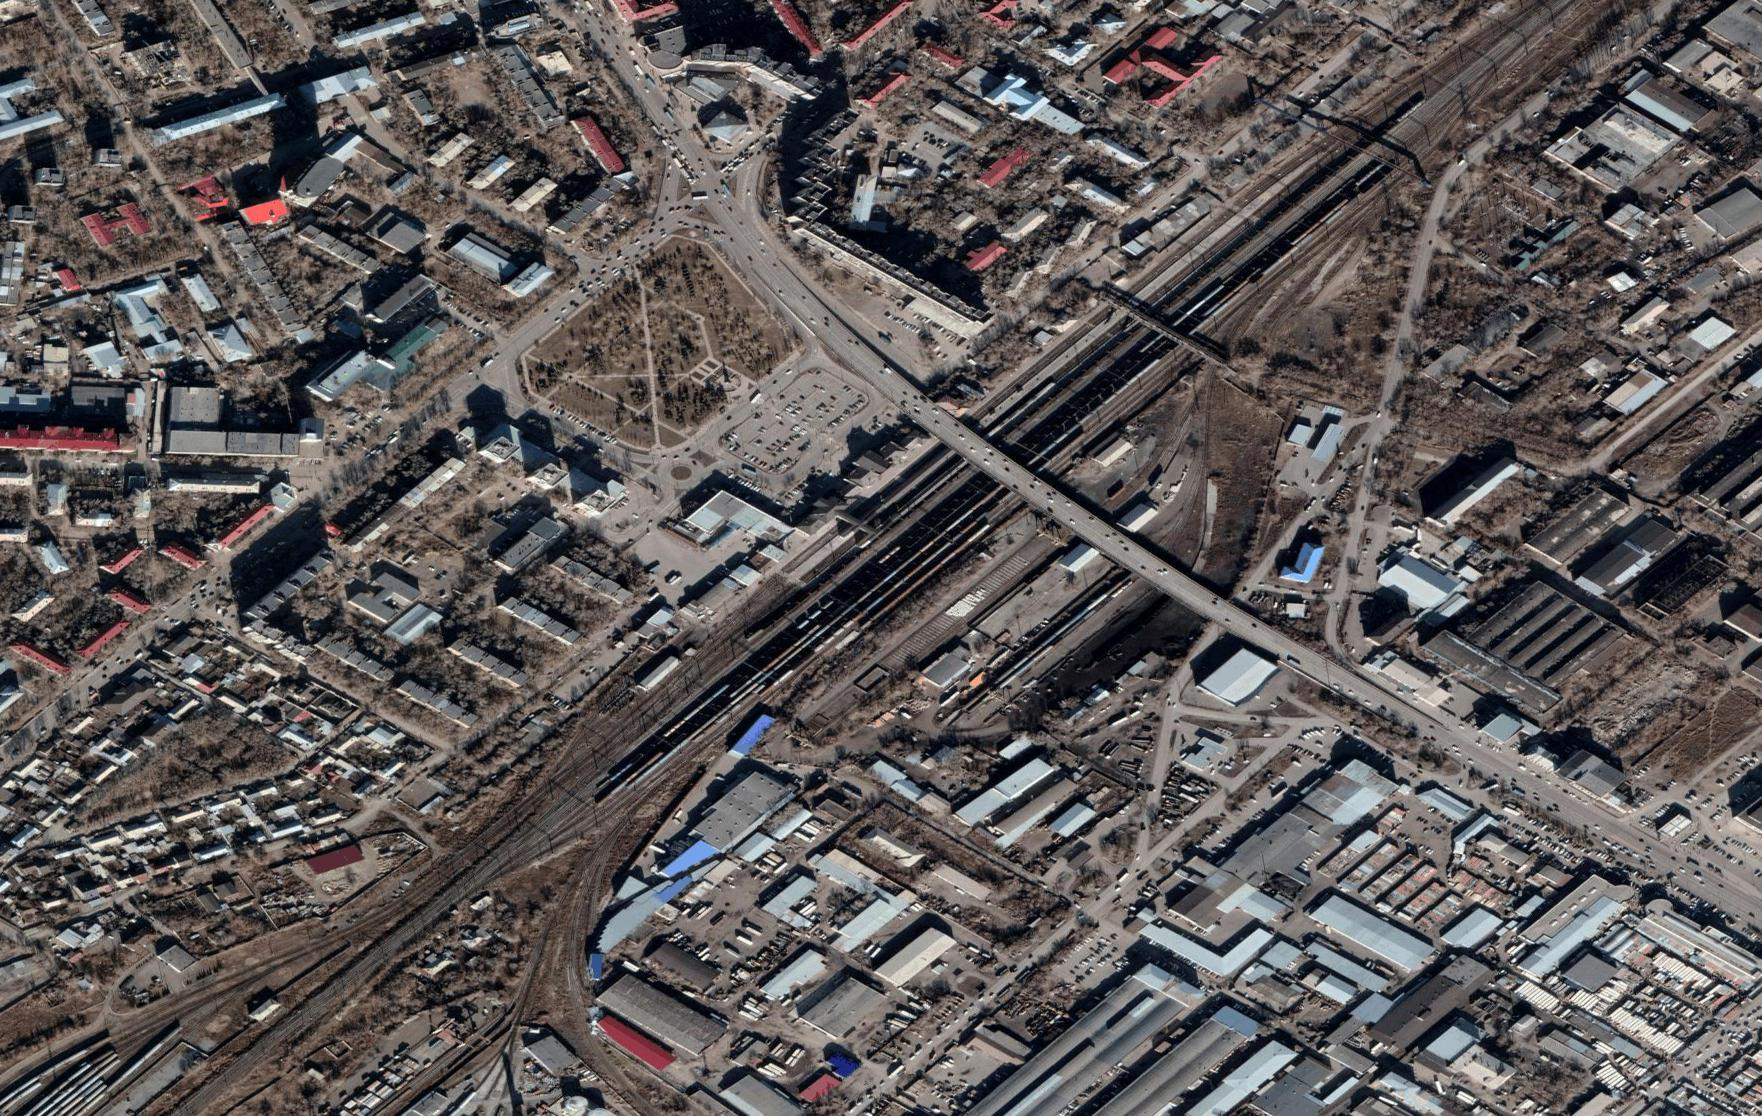bridge: (932, 416, 1027, 488)
motorway: (1219, 598, 1449, 735), (1018, 474, 1225, 616), (842, 333, 1033, 487), (708, 182, 851, 335)
train_station: (670, 480, 911, 681)
